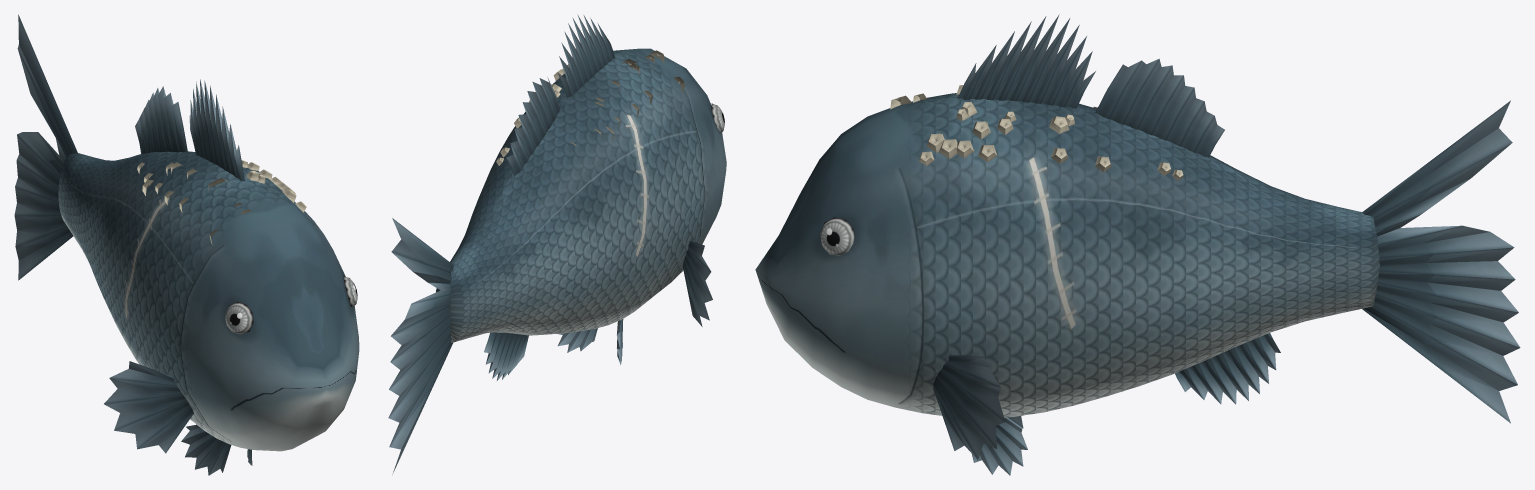
File: old-greyback.glb
The picture shows the model from 3 angles, left to right: view 1: azimuth 30°, elevation 25°; view 2: azimuth 150°, elevation 25°; view 3: azimuth 270°, elevation 25°; orthographic projection. The views are drawn at different scales.
Visible parts, largest first — view 1: old-greyback; view 2: old-greyback; view 3: old-greyback.
Part boxes in pixels (x1,y1,x2,y2): old-greyback: (14,14,359,475); old-greyback: (388,14,726,474); old-greyback: (755,14,1520,475).
Size of the model in its own units: 0.4428 by 0.6485 by 1.
1 material, 1 textured.
